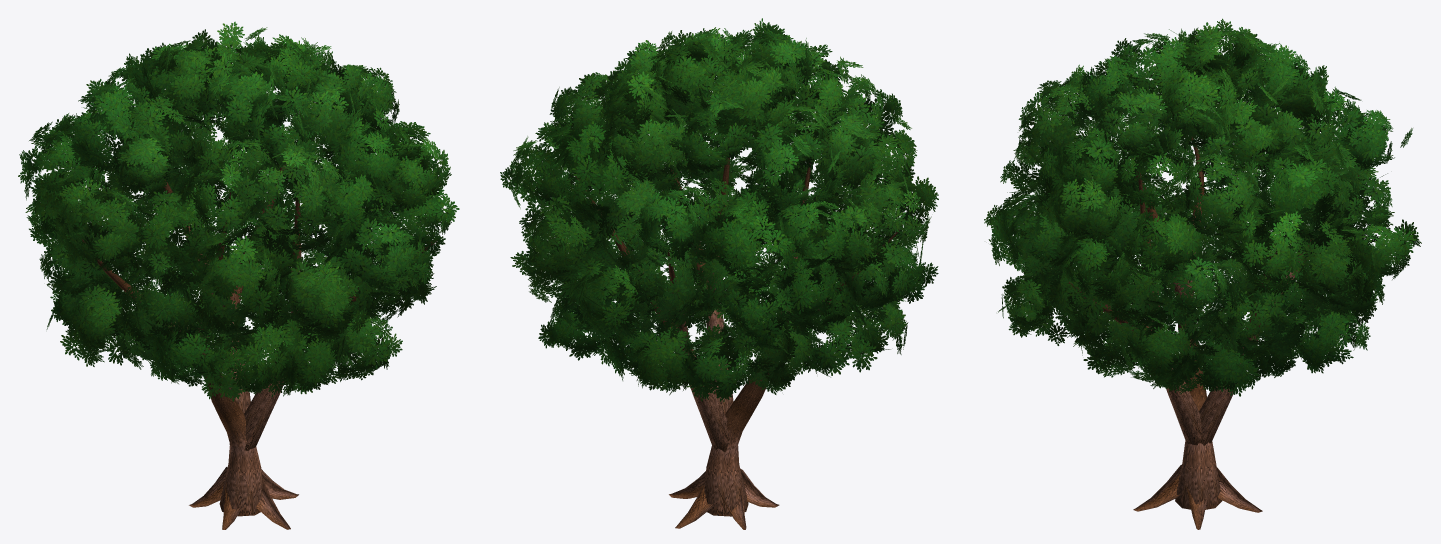
File: mm6_deco_tree01.glb
3 views of the same model, side by side, from view 1: azimuth 30°, elevation 25°; view 2: azimuth 150°, elevation 25°; view 3: azimuth 270°, elevation 25° (orthographic).
Visible parts, largest first — view 1: Tree; view 2: Tree; view 3: Tree.
Boxes of the visible parts, x1,y1,x2,y2 form: Tree: [18, 21, 459, 529]; Tree: [500, 18, 938, 529]; Tree: [984, 18, 1421, 529].
Size of the model in its own units: 5.77 by 6.74 by 5.87.
2 materials, 2 textured.
